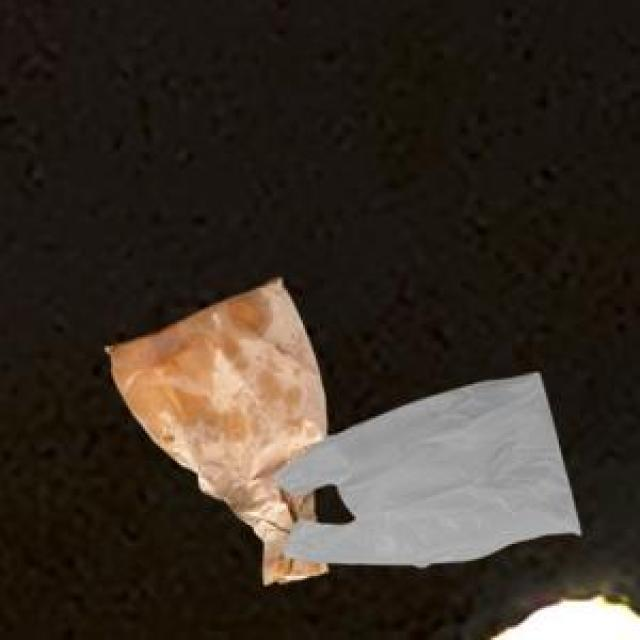paper: (102, 275, 322, 580)
